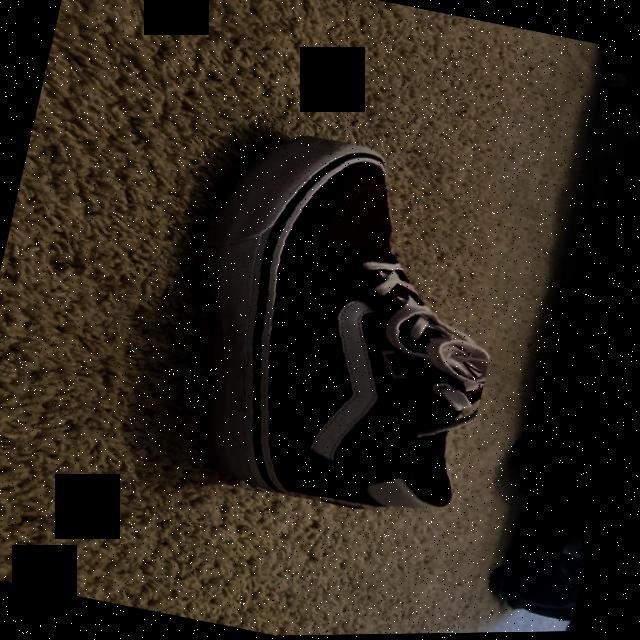shoe: (153, 117, 531, 536)
